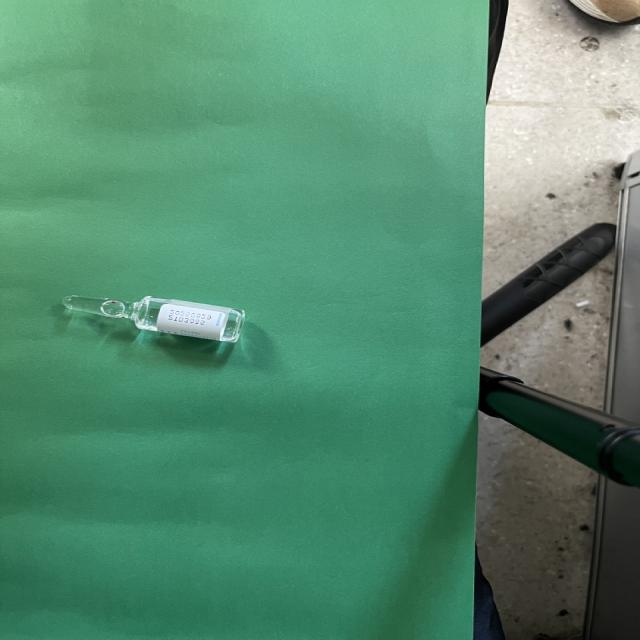Ampoules: (61, 296, 245, 343)
